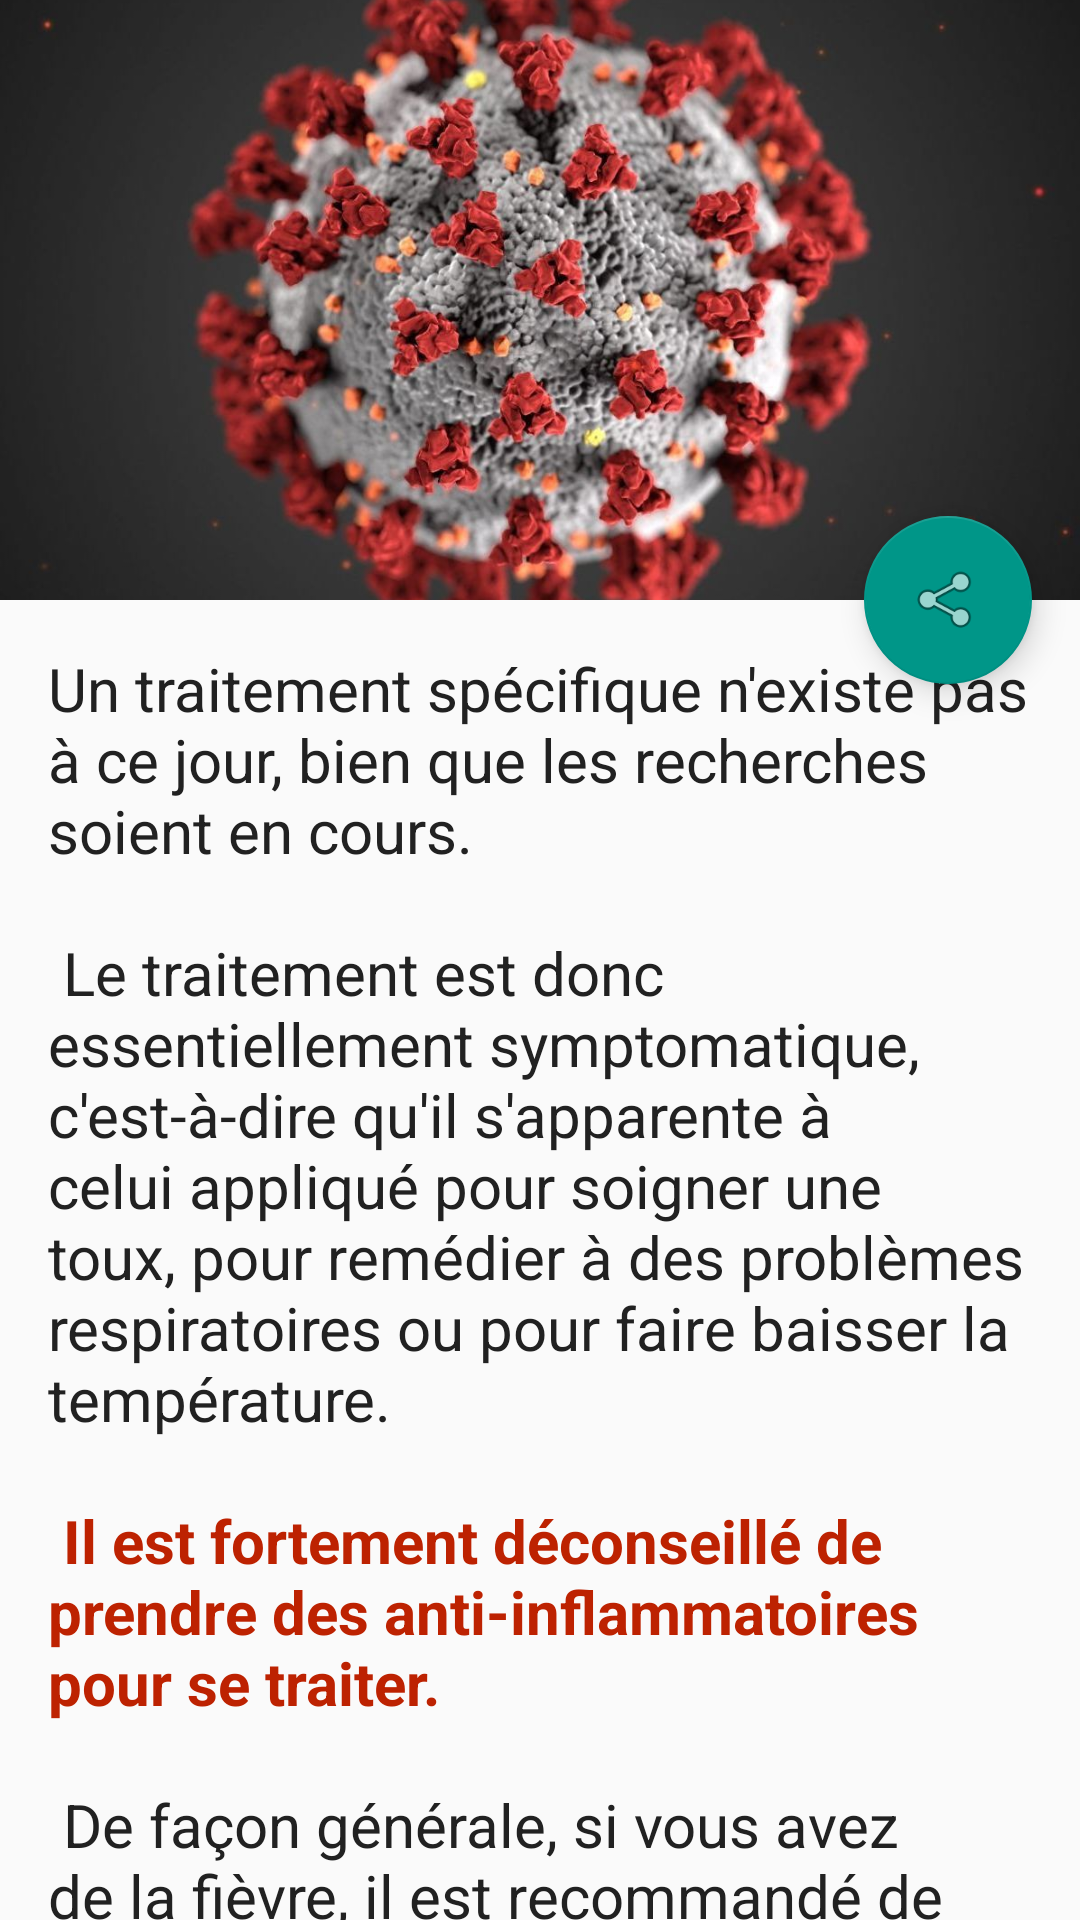

Screen size 1080x1920. Icon name, then its center in pixels as (x,y):
share: (948,600)
